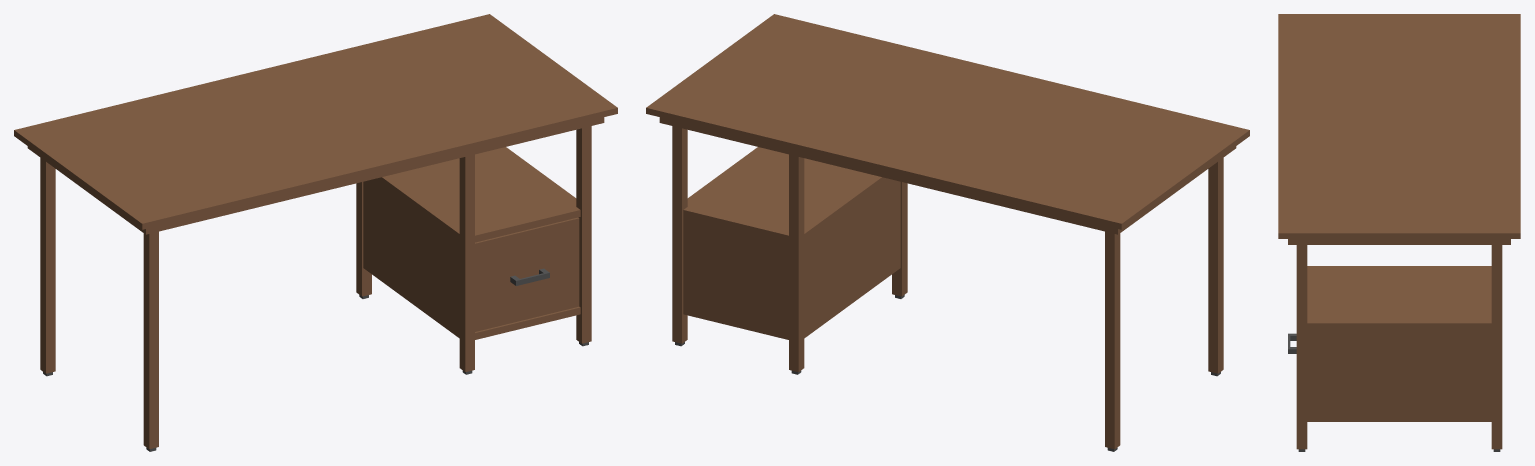
File: desk5.fbx
The picture shows the model from 3 angles, left to right: view 1: azimuth 30°, elevation 25°; view 2: azimuth 150°, elevation 25°; view 3: azimuth 270°, elevation 25°; orthographic projection. The views are drawn at different scales.
Visible parts, largest first — view 1: desk5; view 2: desk5; view 3: desk5.
Boxes of the visible parts, left/top/right/bottom form: desk5: left=14, top=14, right=617, bottom=451; desk5: left=646, top=14, right=1249, bottom=451; desk5: left=1278, top=14, right=1520, bottom=451.
Bounding box in the file's own units: 152 × 73.6 × 71.1.
